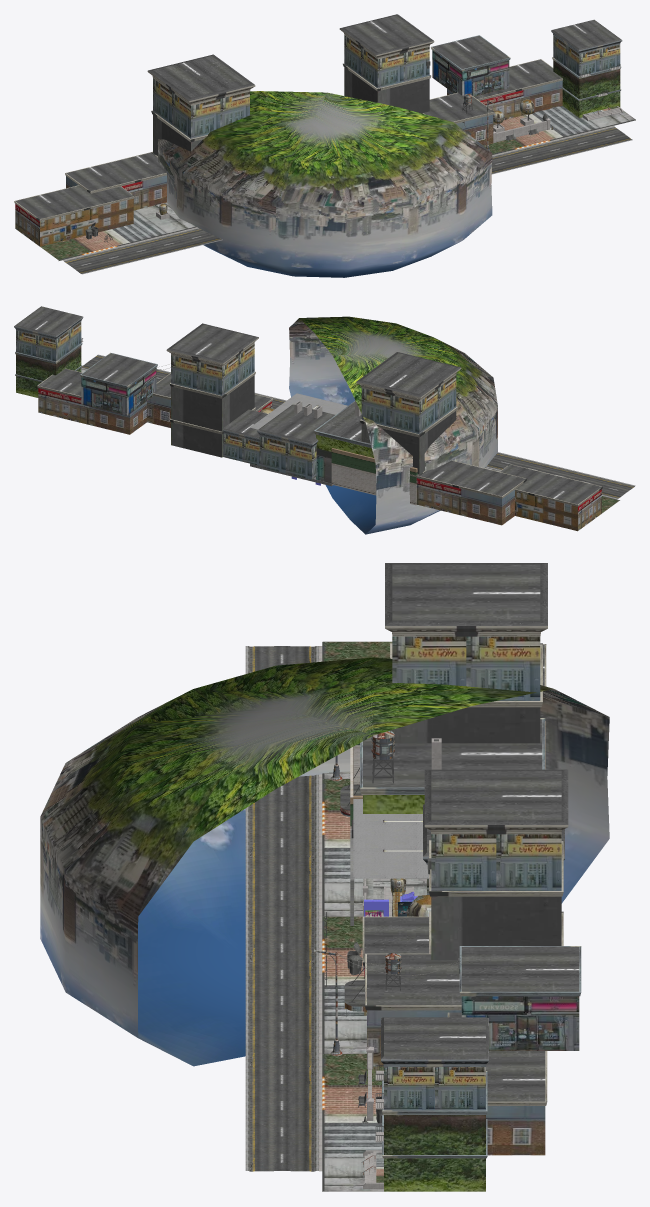
Rendered from Store_Sports.glb.
3 views of the same model, one above another, from view 1: azimuth 30°, elevation 25°; view 2: azimuth 150°, elevation 25°; view 3: azimuth 270°, elevation 25° (orthographic). The views are drawn at different scales.
Parts seen in each view (by area): view 1: Store_Sports; view 2: Store_Sports; view 3: Store_Sports.
Part boxes in pixels (<box>): Store_Sports: <box>14,14,635,277</box>; Store_Sports: <box>14,306,635,534</box>; Store_Sports: <box>40,563,609,1191</box>.
Size of the model in its own units: 485 by 136 by 212.
25 materials, 24 textured.
